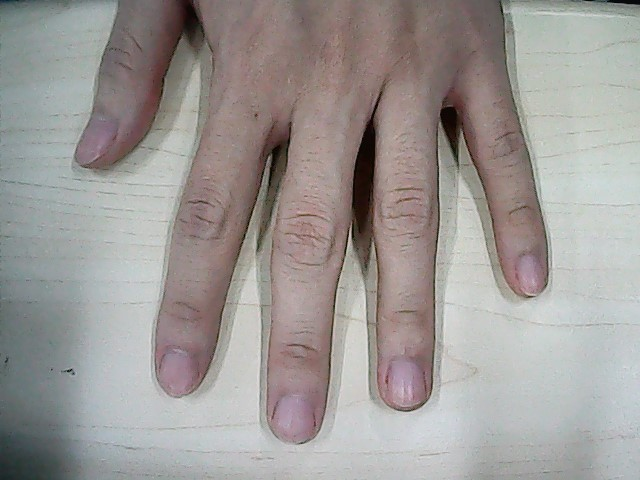nail: (384, 359, 429, 410), (272, 393, 316, 444), (73, 115, 114, 169), (159, 350, 200, 396), (516, 252, 547, 296)
